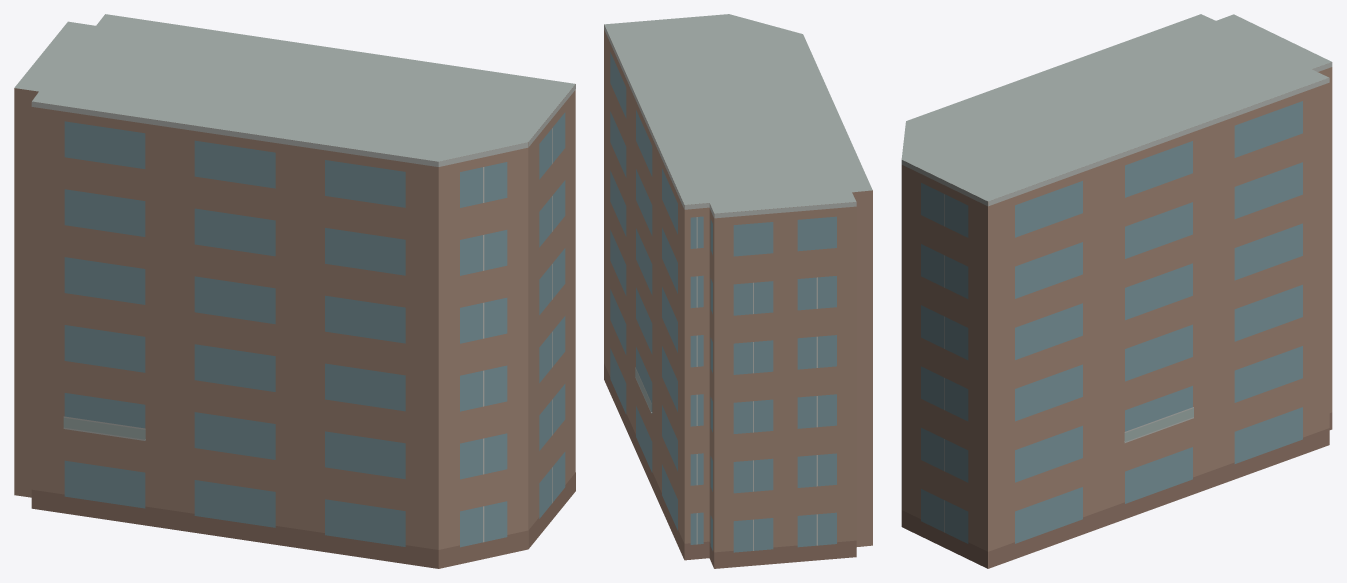
Rendered from survey-upis-32628904.glb.
3 renders of one model, left to right at view 1: azimuth 30°, elevation 25°; view 2: azimuth 150°, elevation 25°; view 3: azimuth 270°, elevation 25°, orthographic. The views are drawn at different scales.
Visible parts, largest first — view 1: survey-upis-32628904.tmp; view 2: survey-upis-32628904.tmp; view 3: survey-upis-32628904.tmp.
Boxes of the visible parts, x1=… form: survey-upis-32628904.tmp: x1=14, y1=14, x2=575, y2=568; survey-upis-32628904.tmp: x1=604, y1=14, x2=872, y2=568; survey-upis-32628904.tmp: x1=901, y1=14, x2=1332, y2=568.
Size of the model in its own units: 20.1 by 18.35 by 19.51.
